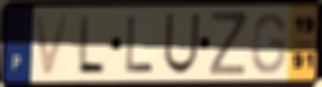G: (250, 10, 288, 76)
L: (75, 13, 107, 76), (124, 14, 156, 74)
U: (161, 11, 202, 76)
V: (31, 11, 74, 79)
Z: (208, 10, 248, 78)
